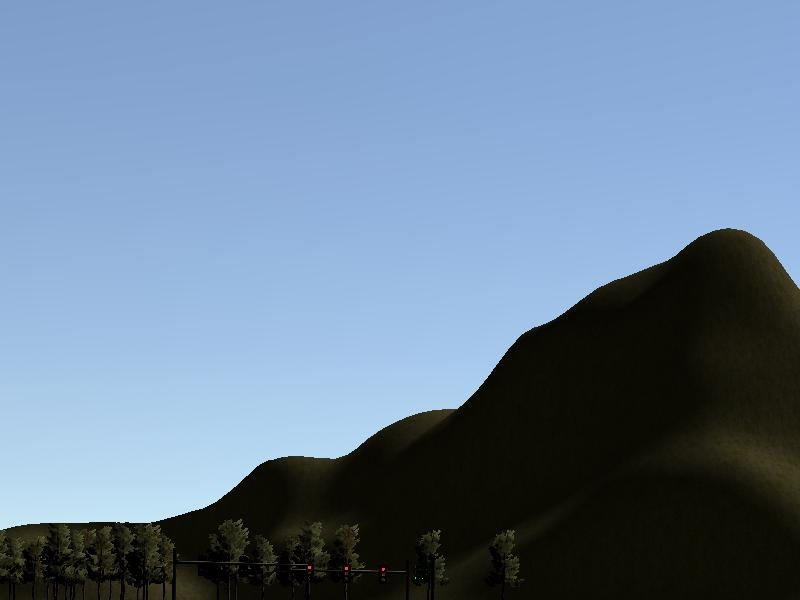RED: (341, 563, 351, 583), (378, 564, 388, 584), (305, 563, 313, 584)
